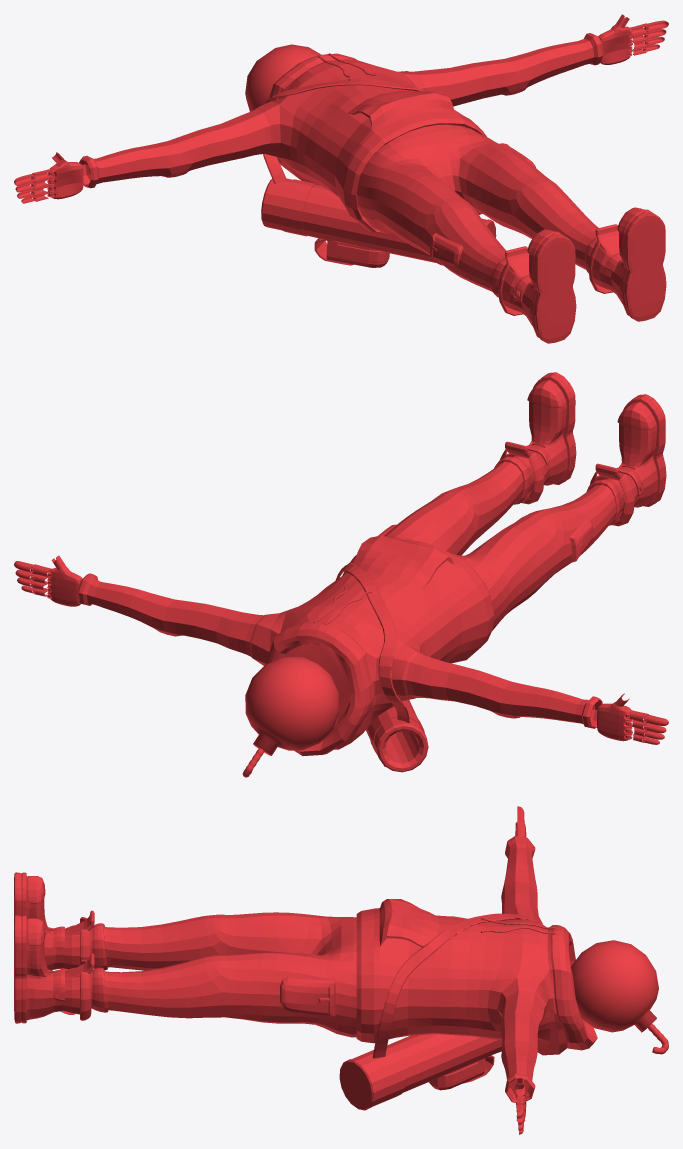
Rendered from character.fbx.
3 renders of one model, top to bottom at view 1: azimuth 30°, elevation 25°; view 2: azimuth 150°, elevation 25°; view 3: azimuth 270°, elevation 25°, orthographic. The views are drawn at different scales.
Parts seen in each view (by area): view 1: Circle.007; view 2: Circle.007; view 3: Circle.007.
Boxes of the visible parts, x1=… form: Circle.007: x1=14, y1=14, x2=668, y2=343; Circle.007: x1=14, y1=372, x2=668, y2=777; Circle.007: x1=14, y1=806, x2=668, y2=1134.
Size of the model in its own units: 1.93 by 0.5704 by 1.73.
